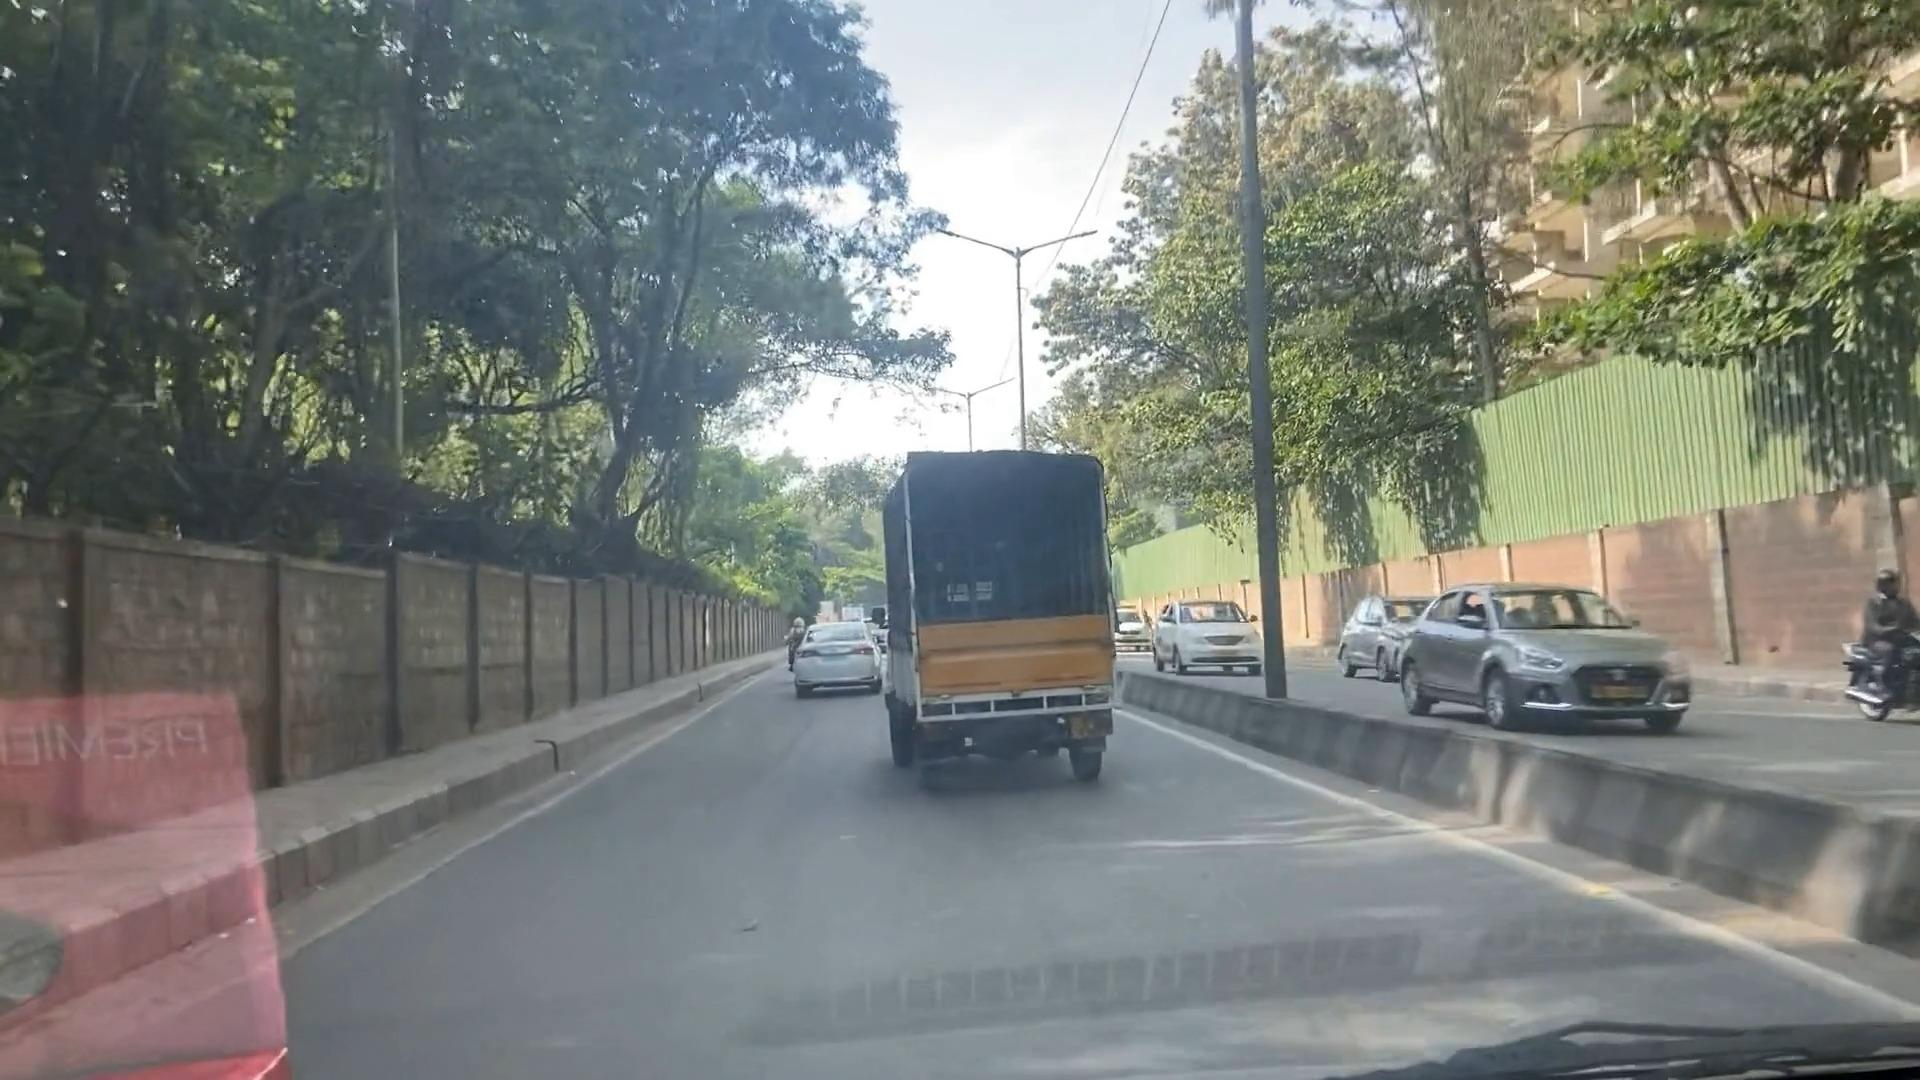HMV: (874, 436, 1126, 785)
